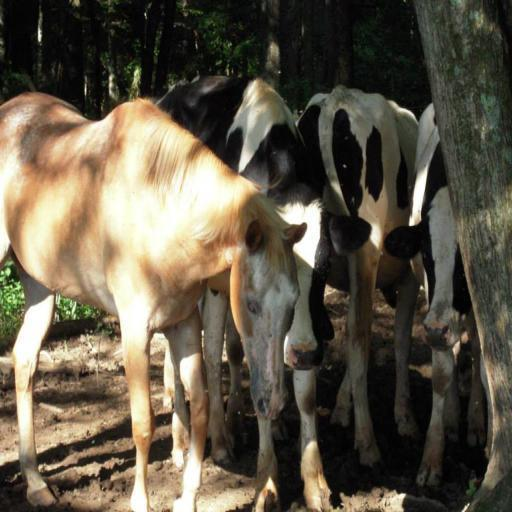horse: (0, 88, 310, 512)
